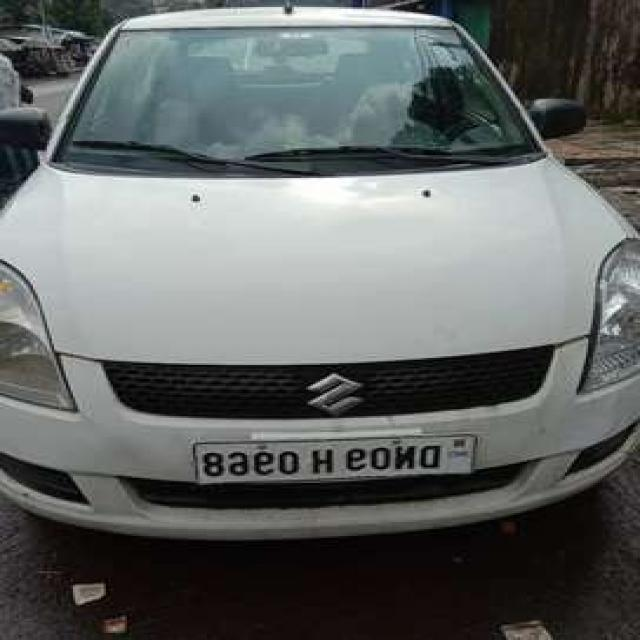license_plate: (189, 431, 479, 488)
